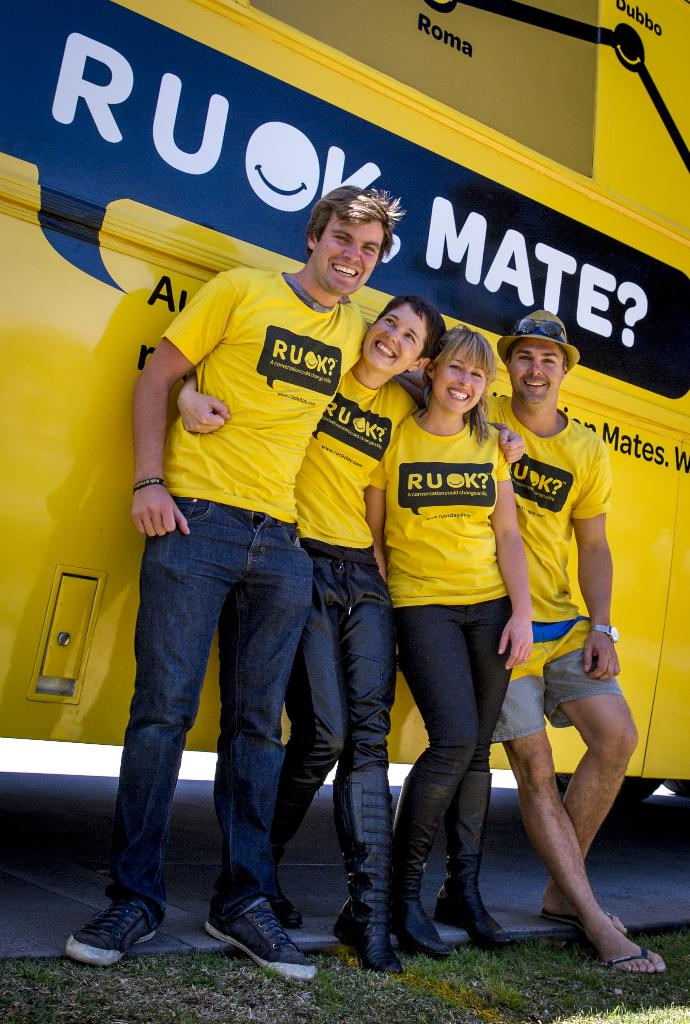Footwear: (328, 778, 411, 972), (437, 771, 512, 942), (395, 780, 454, 958), (206, 900, 321, 979), (261, 783, 314, 930), (65, 899, 161, 963), (582, 946, 664, 970), (543, 909, 629, 928)
